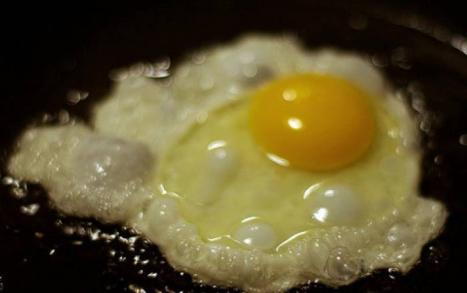egg: (115, 33, 436, 278)
